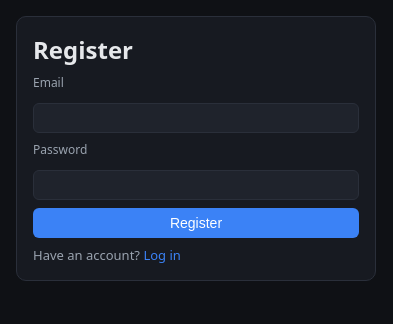
Test: Register › displays an API error and stays on the page when registration fails
Type "u@e.com" into the field labelled "Email".
click(196, 118); type("u@e.com")  # box [33, 103, 359, 133]
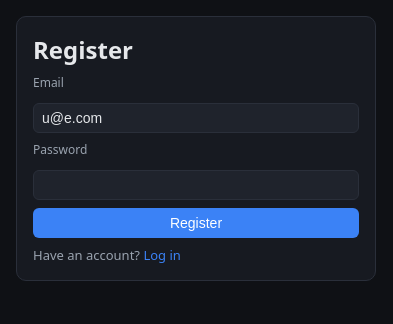
Type "password" into the password field labelled "Password".
click(196, 185); type("password")  # box [33, 170, 359, 200]
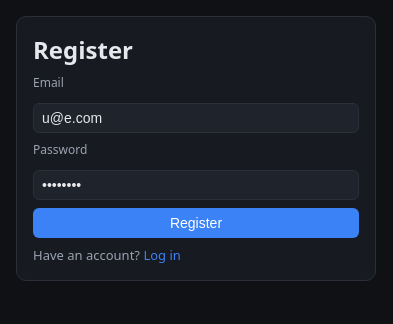
Click the button "Register".
click(196, 223)  # box [33, 208, 359, 238]
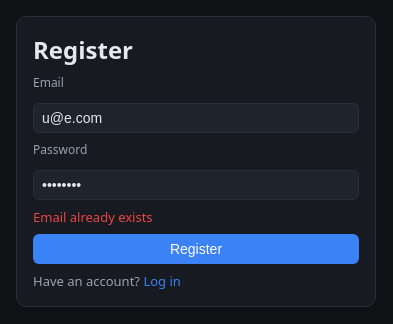
Expected: the text "Email already exists" is shown, [33, 208, 153, 226]
